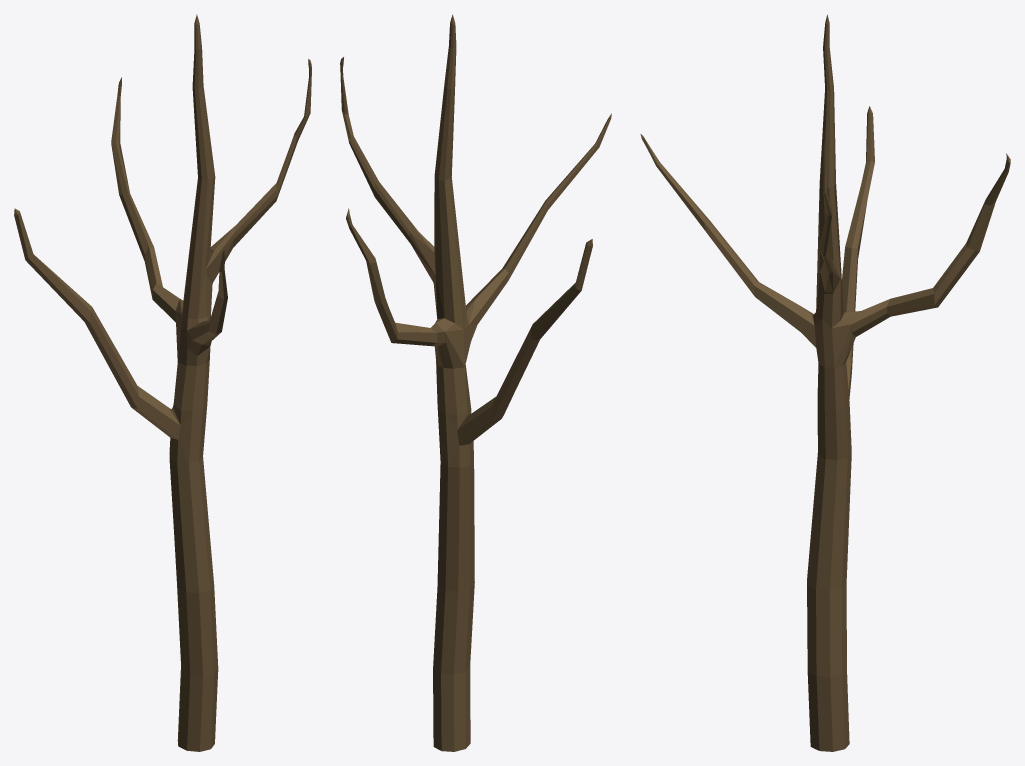
The model's file is tree-1-bare.fbx.
3 views of the same model, side by side, from view 1: azimuth 30°, elevation 25°; view 2: azimuth 150°, elevation 25°; view 3: azimuth 270°, elevation 25° (orthographic).
Visible parts, largest first — view 1: Cylinder; view 2: Cylinder; view 3: Cylinder.
Boxes of the visible parts, x1,y1,x2,y2 form: Cylinder: (14, 14, 311, 751); Cylinder: (340, 14, 611, 751); Cylinder: (640, 14, 1010, 751).
Bounding box in the file's own units: 253 × 295 × 641.
